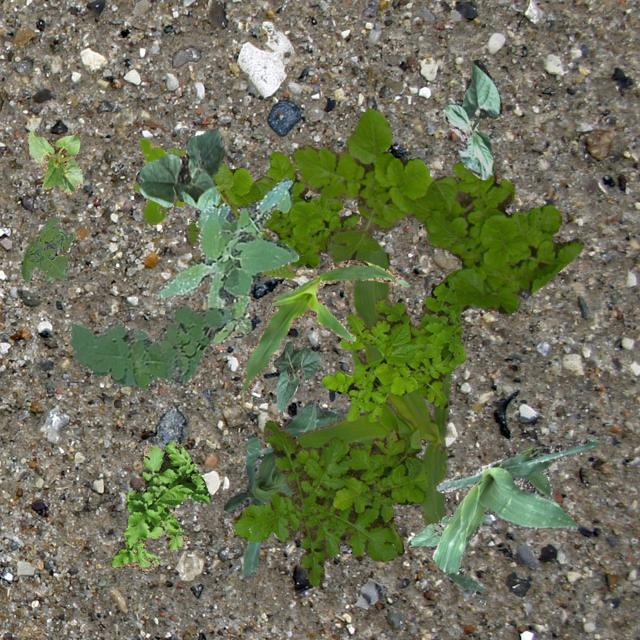crop: (294, 250, 452, 526), (432, 436, 600, 604), (236, 258, 408, 408), (222, 400, 348, 578), (164, 148, 294, 278), (134, 128, 223, 208), (444, 58, 500, 178), (24, 126, 82, 194), (272, 340, 320, 412), (408, 514, 452, 546)
weed: (292, 108, 582, 314), (233, 418, 427, 586), (156, 176, 298, 342), (320, 274, 464, 421), (184, 150, 358, 268), (69, 303, 232, 387), (108, 440, 208, 572), (128, 136, 184, 224), (20, 215, 74, 282)
